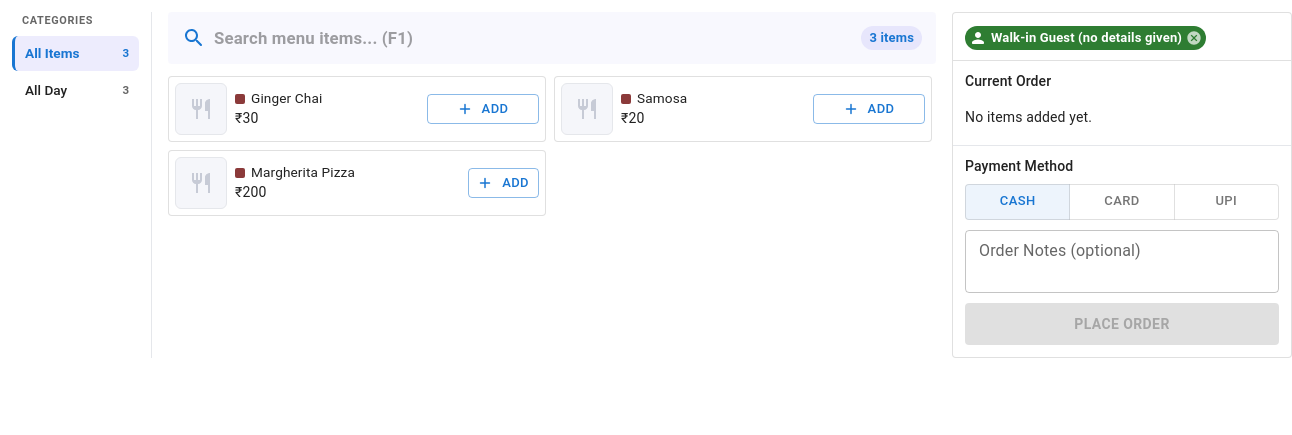
PosOrderBuilder - building the cart › lets staff type an exact quantity directly into a cart line
Expected: the text "Ginger Chai" is shown, [251,90,322,107]
Click the button "Add" next to "Ginger Chai" at (483, 109), box [427,94,539,124]
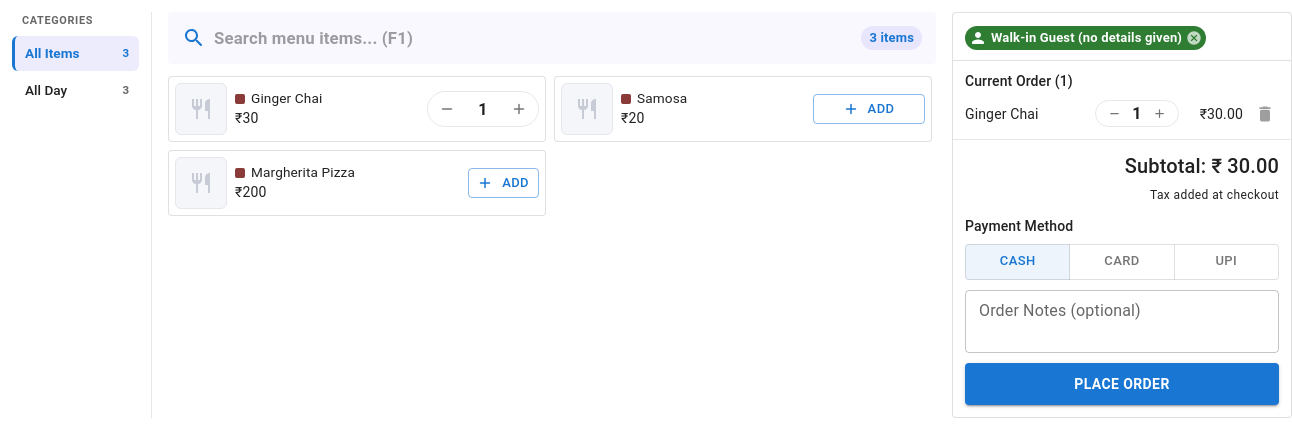
Replace the text in the number field in the row of "Samosa" with "5" at (483, 109), box [469,98,497,120]
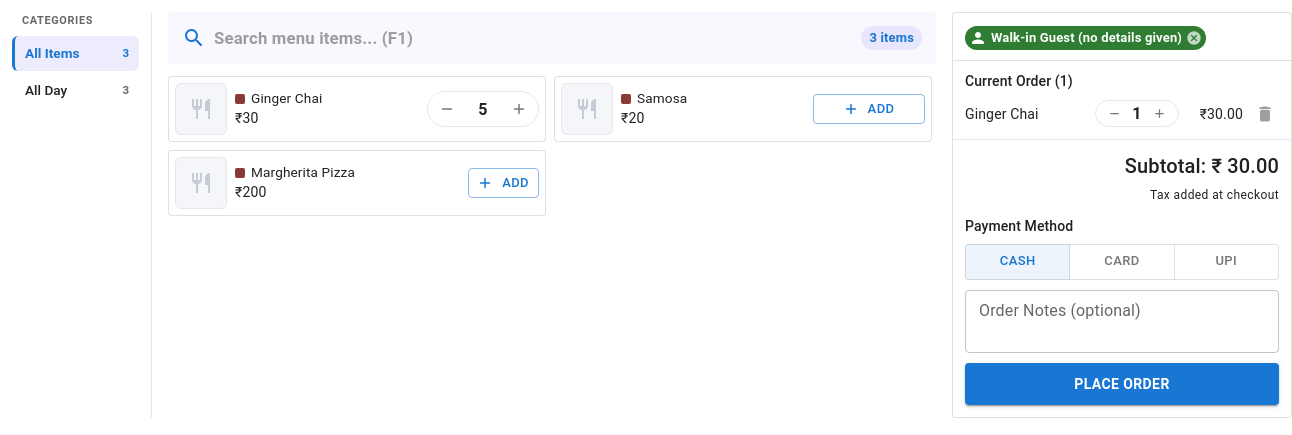
Leave the number field in the row of "Samosa", box [469,98,497,120]
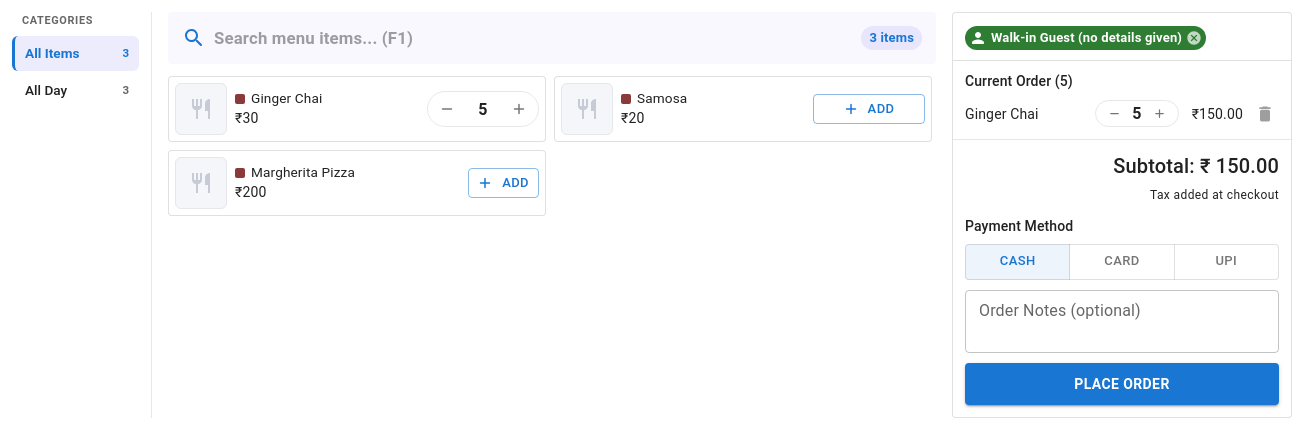
Now the heading "Subtotal: ₹ 150.00" is shown, box [1113,154,1279,178]
